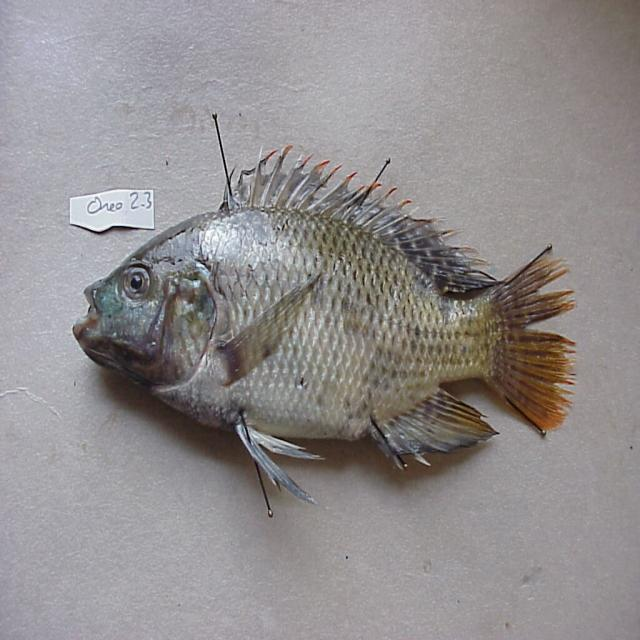ikan: (66, 102, 594, 524)
